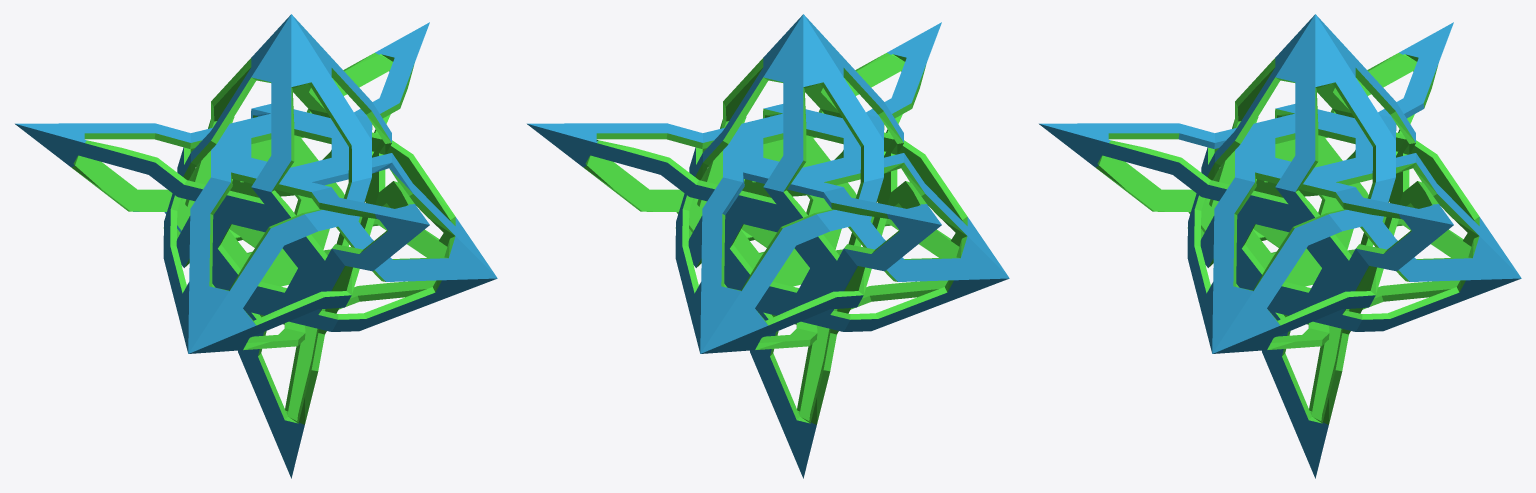
Rendered from StarPolyknotTruncatedTetrahedron.glb.
The picture shows the model from 3 angles, left to right: view 1: azimuth 30°, elevation 25°; view 2: azimuth 150°, elevation 25°; view 3: azimuth 270°, elevation 25°; orthographic projection.
Parts seen in each view (by area): view 1: OK_ESCHER_BBBa_A1; view 2: OK_ESCHER_BBBa_A1; view 3: OK_ESCHER_BBBa_A1.
Boxes of the visible parts, <box> form: OK_ESCHER_BBBa_A1: <box>15,14,497,478</box>; OK_ESCHER_BBBa_A1: <box>527,14,1009,478</box>; OK_ESCHER_BBBa_A1: <box>1039,14,1521,478</box>.
Bounding box in the file's own units: 140 × 150 × 141.
